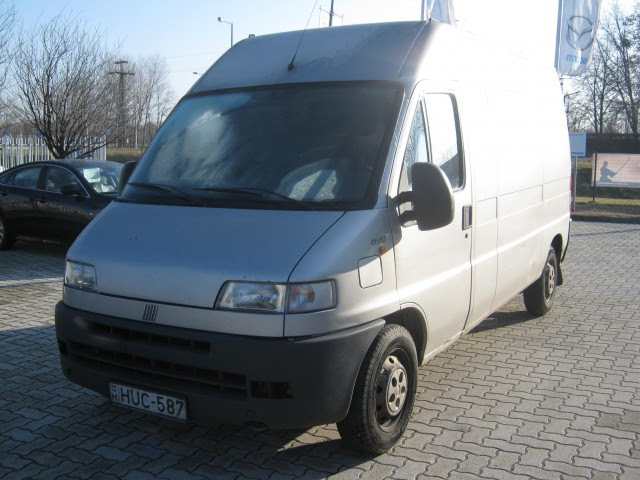car: (20, 37, 576, 475)
